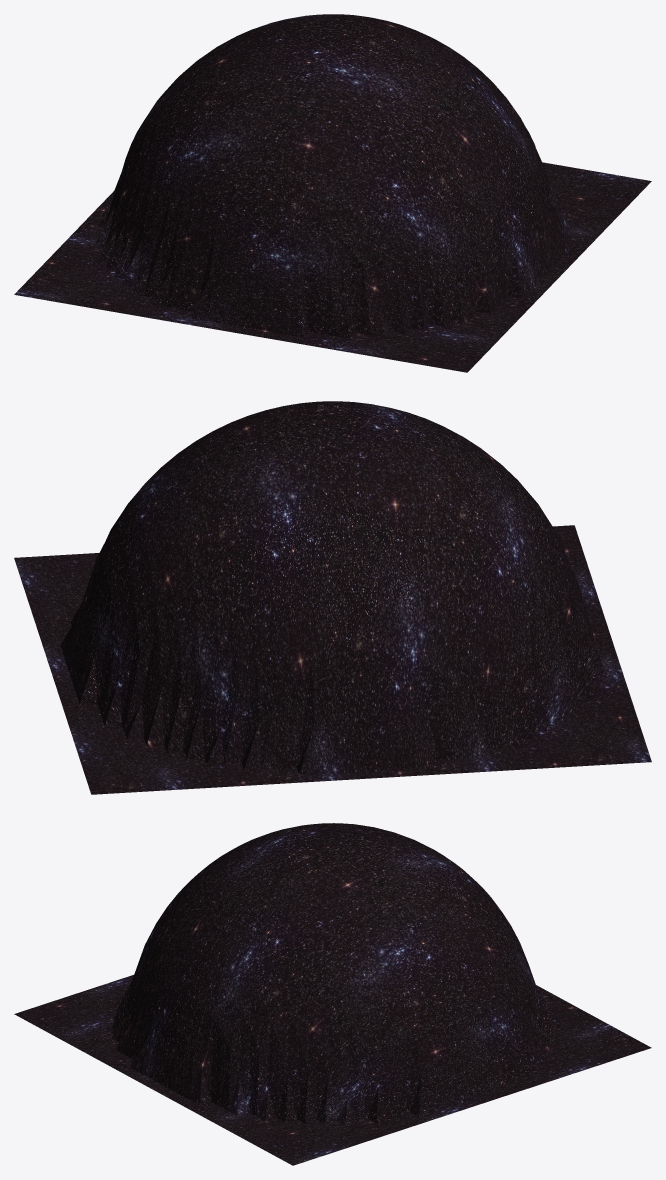
Rendered from stars.obj.
3 views of the same model, one above another, from view 1: azimuth 30°, elevation 25°; view 2: azimuth 150°, elevation 25°; view 3: azimuth 270°, elevation 25° (orthographic). The views are drawn at different scales.
Parts seen in each view (by area): view 1: Plane.018_Plane.160; view 2: Plane.018_Plane.160; view 3: Plane.018_Plane.160.
Part boxes in pixels (x1,y1,x2,y2): Plane.018_Plane.160: (14,14,651,372); Plane.018_Plane.160: (14,401,651,794); Plane.018_Plane.160: (14,823,651,1165).
Bounding box in the file's own units: 1814 × 592 × 1814.
1 material, 1 textured.
